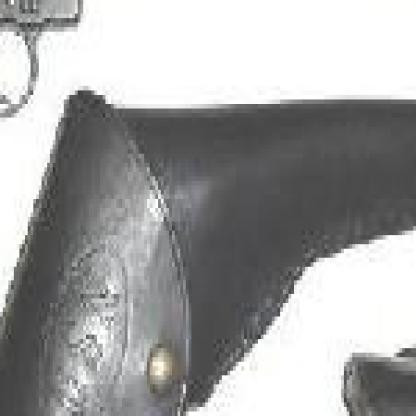gun: (0, 0, 328, 231)
